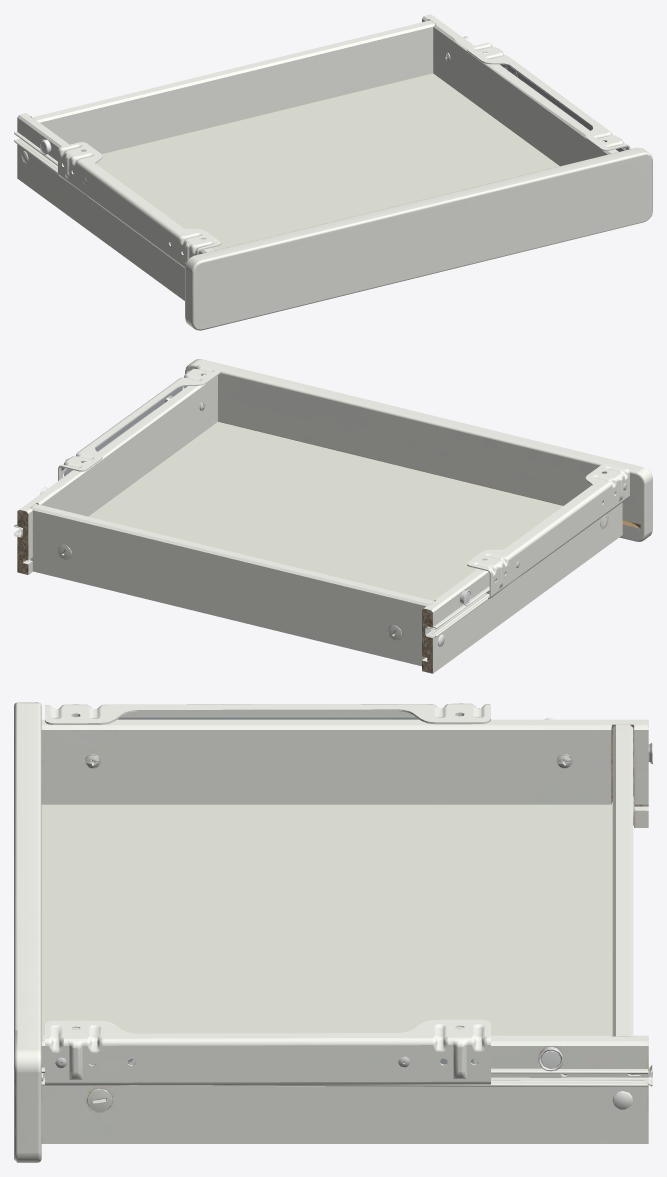
The model's file is 21 - RELATERA - 抽屜, 白色, 50x36x8 公分 IKEA 線上購物.glb.
3 renders of one model, top to bottom at view 1: azimuth 30°, elevation 25°; view 2: azimuth 150°, elevation 25°; view 3: azimuth 270°, elevation 25°, orthographic. The views are drawn at different scales.
Visible parts, largest first — view 1: ASY_LPT01_90559003_S01_NV01, ASY_ART_90559003_S01_NV01; view 2: ASY_LPT01_90559003_S01_NV01, ASY_ART_90559003_S01_NV01; view 3: ASY_LPT01_90559003_S01_NV01, ASY_ART_90559003_S01_NV01.
Part boxes in pixels (x1,y1,x2,y2): ASY_LPT01_90559003_S01_NV01: [14, 14, 652, 330]; ASY_ART_90559003_S01_NV01: [58, 42, 630, 267]; ASY_LPT01_90559003_S01_NV01: [14, 359, 652, 673]; ASY_ART_90559003_S01_NV01: [58, 364, 629, 599]; ASY_LPT01_90559003_S01_NV01: [14, 702, 652, 1162]; ASY_ART_90559003_S01_NV01: [41, 703, 490, 1085].
Bounding box in the file's own units: 0.497 × 0.0757 × 0.3726.
Materials: 2 (2 with a texture image).
